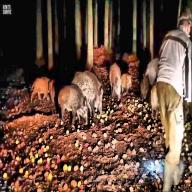boar: (70, 64, 115, 117), (57, 80, 94, 142), (104, 55, 133, 112), (29, 68, 61, 108), (123, 66, 138, 105), (148, 80, 160, 118)
